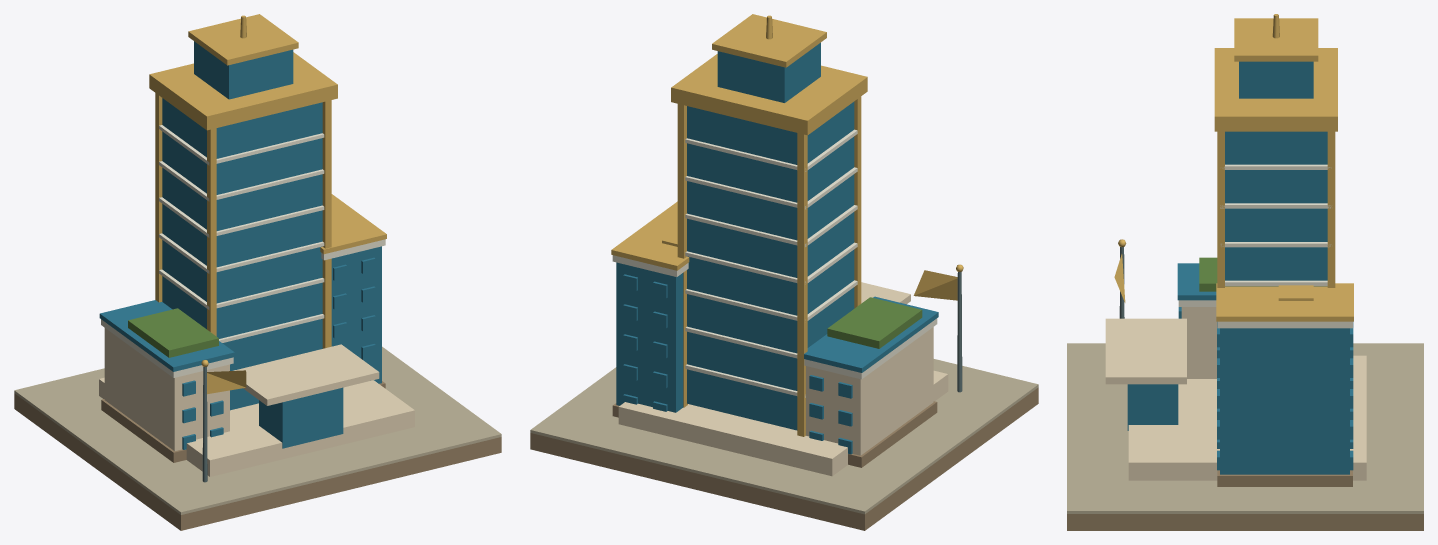
Rendered from club-headquarters-lv5.glb.
3 renders of one model, left to right at view 1: azimuth 30°, elevation 25°; view 2: azimuth 150°, elevation 25°; view 3: azimuth 270°, elevation 25°, orthographic. The views are drawn at different scales.
Visible parts, largest first — view 1: office_tower_glass, foundation_paving, foundation_stoneDark, headquarters_plinth_cream, office_wing_cream, tower_crown_gold, tower_mullions_gold, floor_bands_white, entrance_canopy_cream, secondary_tower_glass, entrance_lobby_glass, penthouse_glass (+10 smaller); view 2: office_tower_glass, foundation_paving, foundation_stoneDark, office_wing_cream, headquarters_plinth_cream, secondary_tower_glass, tower_crown_gold, tower_mullions_gold, floor_bands_white, penthouse_glass, crown_cap_gold, roof_garden_grass (+9 smaller); view 3: foundation_paving, secondary_tower_glass, office_tower_glass, headquarters_plinth_cream, tower_crown_gold, foundation_stoneDark, entrance_canopy_cream, secondary_tower_roof_gold, crown_cap_gold, penthouse_glass, tower_mullions_gold, floor_bands_white (+8 smaller).
Part boxes in pixels (left/top/right/bottom): office_tower_glass: left=162, top=98, right=322, bottom=410; foundation_paving: left=14, top=346, right=501, bottom=514; foundation_stoneDark: left=14, top=393, right=501, bottom=530; headquarters_plinth_cream: left=99, top=377, right=414, bottom=476; office_wing_cream: left=104, top=328, right=229, bottom=451; tower_crown_gold: left=149, top=52, right=337, bottom=130; tower_mullions_gold: left=155, top=93, right=331, bottom=348; floor_bands_white: left=159, top=125, right=324, bottom=342; entrance_canopy_cream: left=233, top=344, right=379, bottom=405; secondary_tower_glass: left=331, top=246, right=381, bottom=383; entrance_lobby_glass: left=259, top=387, right=343, bottom=448; penthouse_glass: left=194, top=41, right=293, bottom=99; office_tower_glass: left=687, top=101, right=854, bottom=430; foundation_paving: left=530, top=359, right=1038, bottom=514; foundation_stoneDark: left=530, top=387, right=1038, bottom=530; office_wing_cream: left=806, top=327, right=933, bottom=455; headquarters_plinth_cream: left=618, top=370, right=948, bottom=476; secondary_tower_glass: left=616, top=262, right=683, bottom=412; tower_crown_gold: left=671, top=54, right=867, bottom=135; tower_mullions_gold: left=677, top=96, right=861, bottom=436; floor_bands_white: left=685, top=129, right=857, bottom=397; penthouse_glass: left=717, top=42, right=820, bottom=102; crown_cap_gold: left=712, top=14, right=826, bottom=67; roof_garden_grass: left=827, top=297, right=922, bottom=348; foundation_paving: left=1067, top=343, right=1423, bottom=513; secondary_tower_glass: left=1220, top=328, right=1349, bottom=474; office_tower_glass: left=1225, top=131, right=1327, bottom=286; headquarters_plinth_cream: left=1128, top=355, right=1366, bottom=480; tower_crown_gold: left=1214, top=48, right=1337, bottom=131; foundation_stoneDark: left=1067, top=514, right=1423, bottom=530; entrance_canopy_cream: left=1105, top=318, right=1186, bottom=384; secondary_tower_roof_gold: left=1216, top=283, right=1353, bottom=321; crown_cap_gold: left=1234, top=18, right=1318, bottom=61; penthouse_glass: left=1239, top=61, right=1313, bottom=98; tower_mullions_gold: left=1217, top=131, right=1335, bottom=287; floor_bands_white: left=1220, top=164, right=1331, bottom=285.
Size of the model in its own units: 1 by 1.2 by 0.9.
